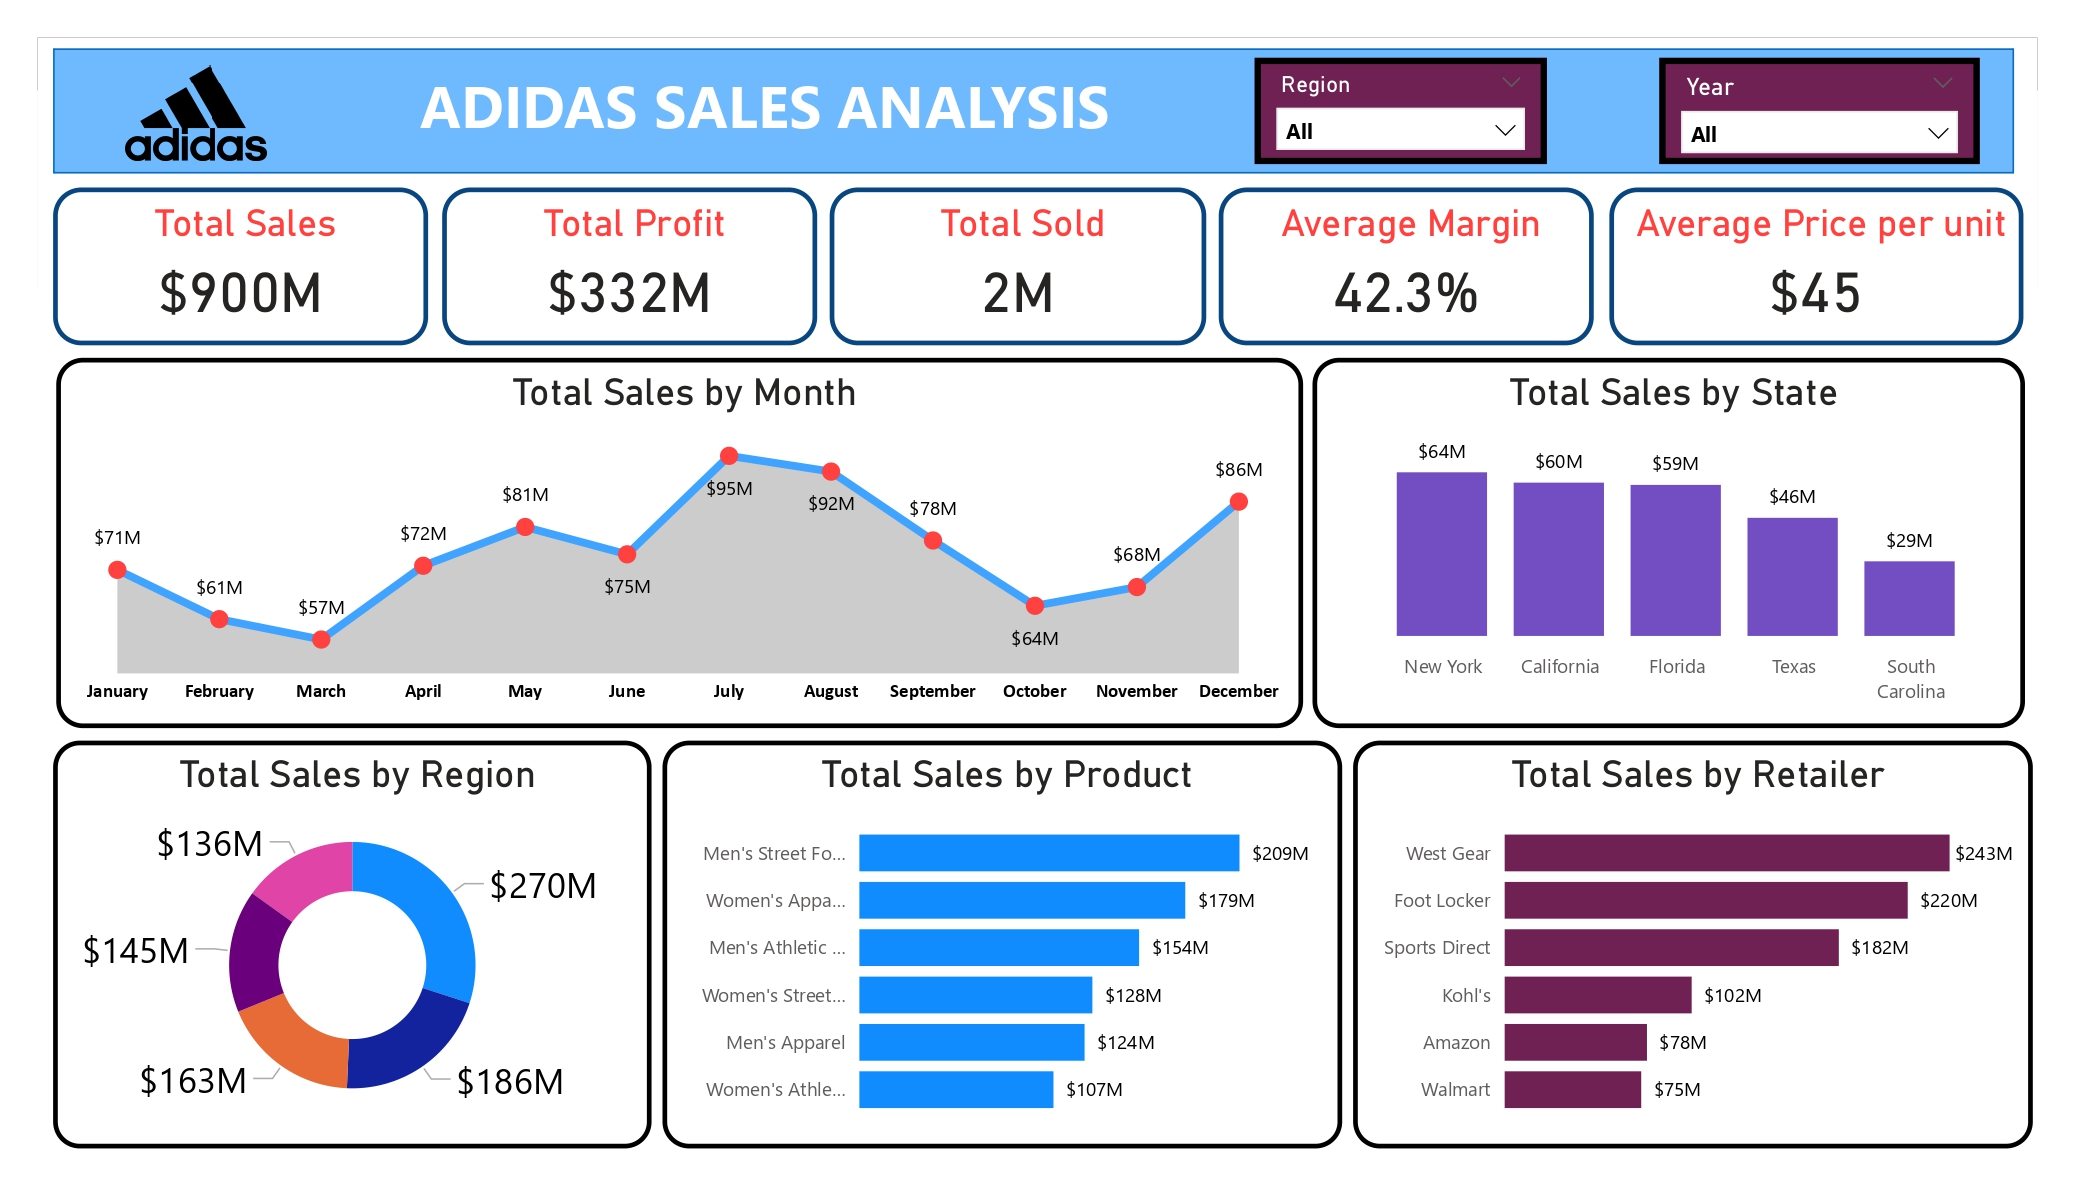

This screenshot's page, from the dashboard's own definition file:
{"tool":"powerbi","page":{"name":"Page 1","canvas":[1280,720],"ordinal":0},"visuals":[{"type":"shape","box":[10.1,6.7,1255,80],"z":0},{"type":"textbox","box":[204.9,13.4,520.7,67.2],"z":1000},{"type":"card","title":"Total Sales","fields":{"Values":["Sum(Data Sales Adidas.Total Sales)"]},"box":[10.1,95.7,240,100.8],"z":2000},{"type":"card","title":"Total Profit","fields":{"Values":["Sum(Data Sales Adidas.Operating Profit)"]},"box":[258.7,95.7,240.2,100.8],"z":3000},{"type":"card","title":"Total Sold","fields":{"Values":["Sum(Data Sales Adidas.Units Sold)"]},"box":[507.3,95.7,240.2,100.8],"z":4000},{"type":"card","title":"Average Price per unit","fields":{"Values":["Avg(Data Sales Adidas.Price per Unit)"]},"box":[1006.2,95.7,265,100.8],"z":5000},{"type":"card","title":"Average Margin","fields":{"Values":["Avg(Data Sales Adidas.Operating Margin)"]},"box":[755.9,95.7,240.2,100.8],"z":6000},{"type":"areaChart","title":" Total Sales by Month","fields":{"Y":["Sum(Data Sales Adidas.Total Sales)"],"Category":["Data Sales Adidas.Invoice Date.Variation.Date Hierarchy.Month"]},"box":[11.8,204.9,797.9,236.9],"z":7000},{"type":"donutChart","title":" Total Sales by Region","fields":{"Category":["Data Sales Adidas.Region"],"Y":["Sum(Data Sales Adidas.Total Sales)"]},"box":[10.1,450.2,383,260.4],"z":8000},{"type":"clusteredBarChart","title":" Total Sales by Product","fields":{"Category":["Data Sales Adidas.Product"],"Y":["Sum(Data Sales Adidas.Total Sales)"]},"box":[399.8,450.2,435.1,260.4],"z":9000},{"type":"clusteredBarChart","title":" Total Sales by Retailer","fields":{"Y":["Sum(Data Sales Adidas.Total Sales)"],"Category":["Data Sales Adidas.Retailer"]},"box":[841.6,450.2,435.1,260.4],"z":10000},{"type":"slicer","fields":{"Values":["Data Sales Adidas.Region"]},"box":[779.4,13.4,186.5,67.2],"z":11000},{"type":"slicer","fields":{"Values":["Data Sales Adidas.Invoice Date.Variation.Date Hierarchy.Year","Data Sales Adidas.Invoice Date.Variation.Date Hierarchy.Quarter","Data Sales Adidas.Invoice Date.Variation.Date Hierarchy.Month","Data Sales Adidas.Invoice Date.Variation.Date Hierarchy.Day"]},"box":[1038.1,13.4,204.9,67.2],"z":12000},{"type":"image","box":[11.8,13.4,179.7,70.6],"z":13000},{"type":"columnChart","title":"Total Sales by State","fields":{"Y":["Sum(Data Sales Adidas.Total Sales)"],"Category":["Data Sales Adidas.State"]},"box":[816.4,204.9,455.2,236.9],"z":13001}]}

Visuals, with their boxes in screenshot pixels (x1, y1, x2, y2):
shape: detection(53, 48, 2014, 173)
textbox: detection(358, 58, 1171, 163)
"Total Sales" card: detection(53, 187, 428, 345)
"Total Profit" card: detection(442, 187, 817, 345)
"Total Sold" card: detection(830, 187, 1205, 345)
"Average Price per unit" card: detection(1610, 187, 2024, 345)
"Average Margin" card: detection(1219, 187, 1594, 345)
" Total Sales by Month" areaChart: detection(56, 358, 1303, 728)
" Total Sales by Region" donutChart: detection(53, 741, 652, 1148)
" Total Sales by Product" clusteredBarChart: detection(662, 741, 1342, 1148)
" Total Sales by Retailer" clusteredBarChart: detection(1352, 741, 2032, 1148)
slicer - Data Sales Adidas.Region: detection(1255, 58, 1547, 163)
slicer - Data Sales Adidas.Invoice Date.Variation.Date Hierarchy.Year x Data Sales Adidas.Invoice Date.Variation.Date Hierarchy.Quarter: detection(1660, 58, 1980, 163)
image: detection(56, 58, 337, 169)
"Total Sales by State" columnChart: detection(1313, 358, 2024, 728)
